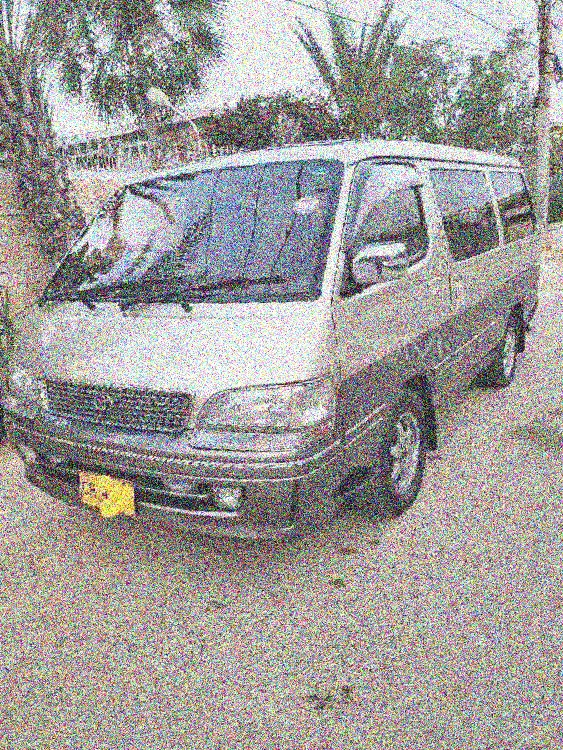van: (0, 120, 563, 605)
